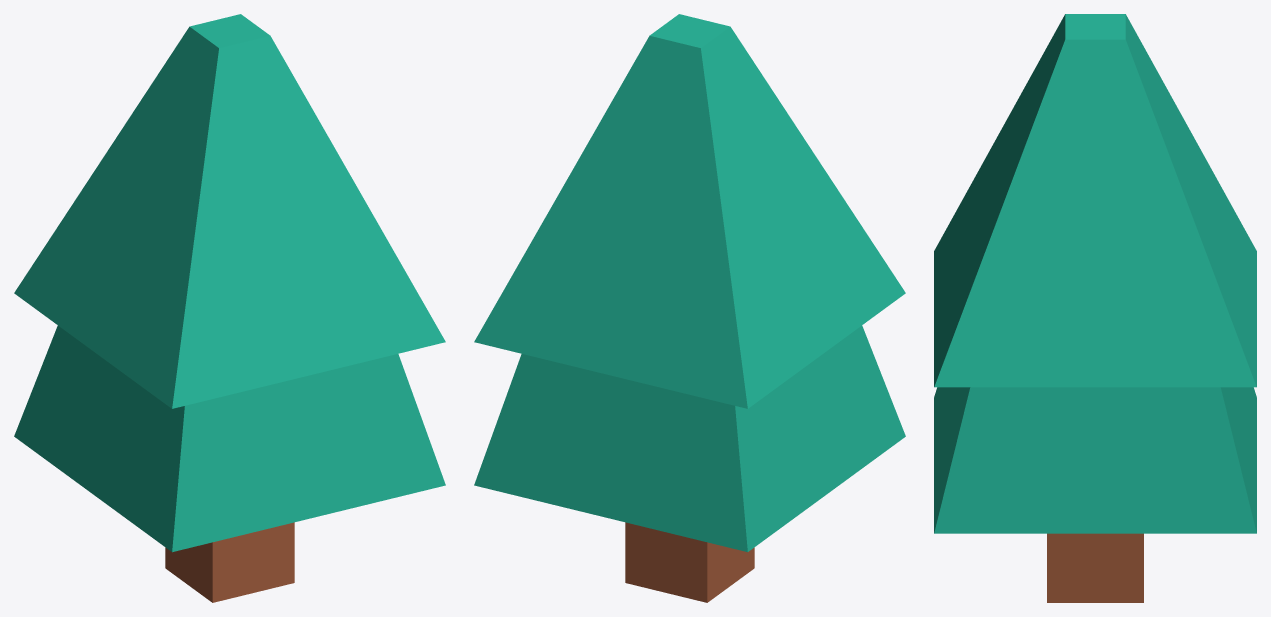
File: unit_tree.dae
3 renders of one model, left to right at view 1: azimuth 30°, elevation 25°; view 2: azimuth 150°, elevation 25°; view 3: azimuth 270°, elevation 25°, orthographic. The views are drawn at different scales.
Visible parts, largest first — view 1: unit_tree; view 2: unit_tree; view 3: unit_tree.
Boxes of the visible parts, x1=… form: unit_tree: x1=14, y1=14, x2=445, y2=602; unit_tree: x1=474, y1=14, x2=905, y2=602; unit_tree: x1=934, y1=14, x2=1256, y2=602.
Size of the model in its own units: 0.2 by 0.38 by 0.2.
